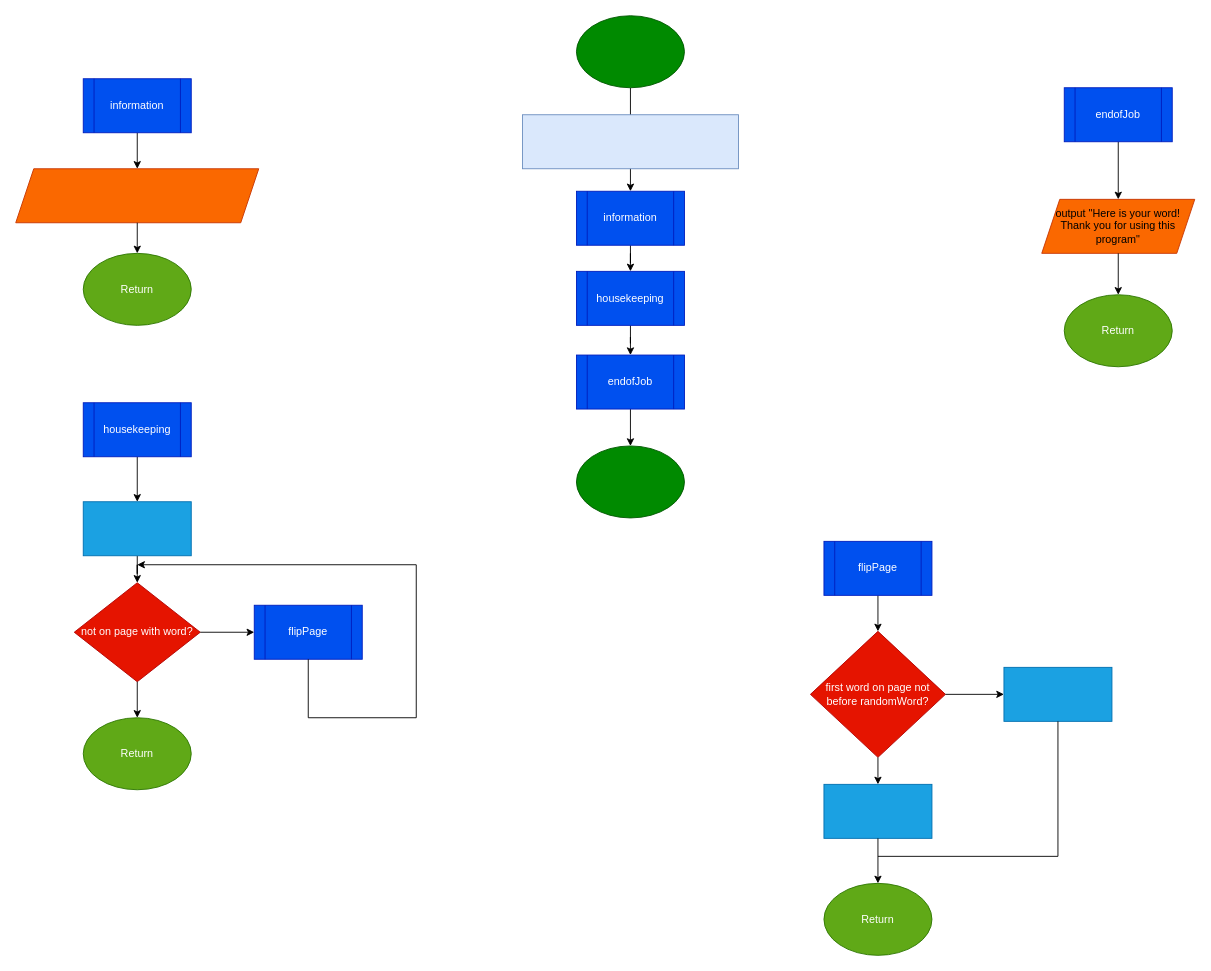
Image size: 1211x971. Some labels were removed from this diagram. Here are the shapes that lost their labels. From the top down, the centre of each, then its label:
point (630, 51): Start
point (630, 141): Declarations: string randomWord
point (137, 195): output "Please enter the word to search for:" input randomWord
point (630, 481): Stop
point (136, 528): open dictionary to a page
point (1057, 693): Flip pages backwards
point (877, 810): Flip pages forwards
